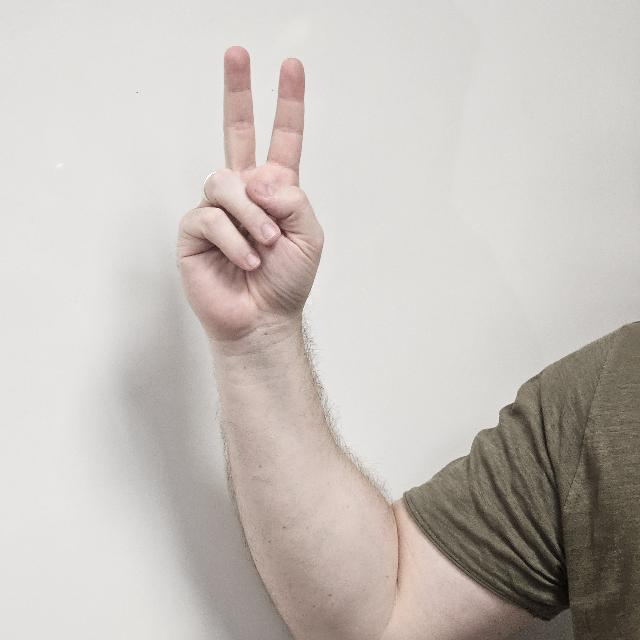Triangulo: (174, 46, 330, 348)
